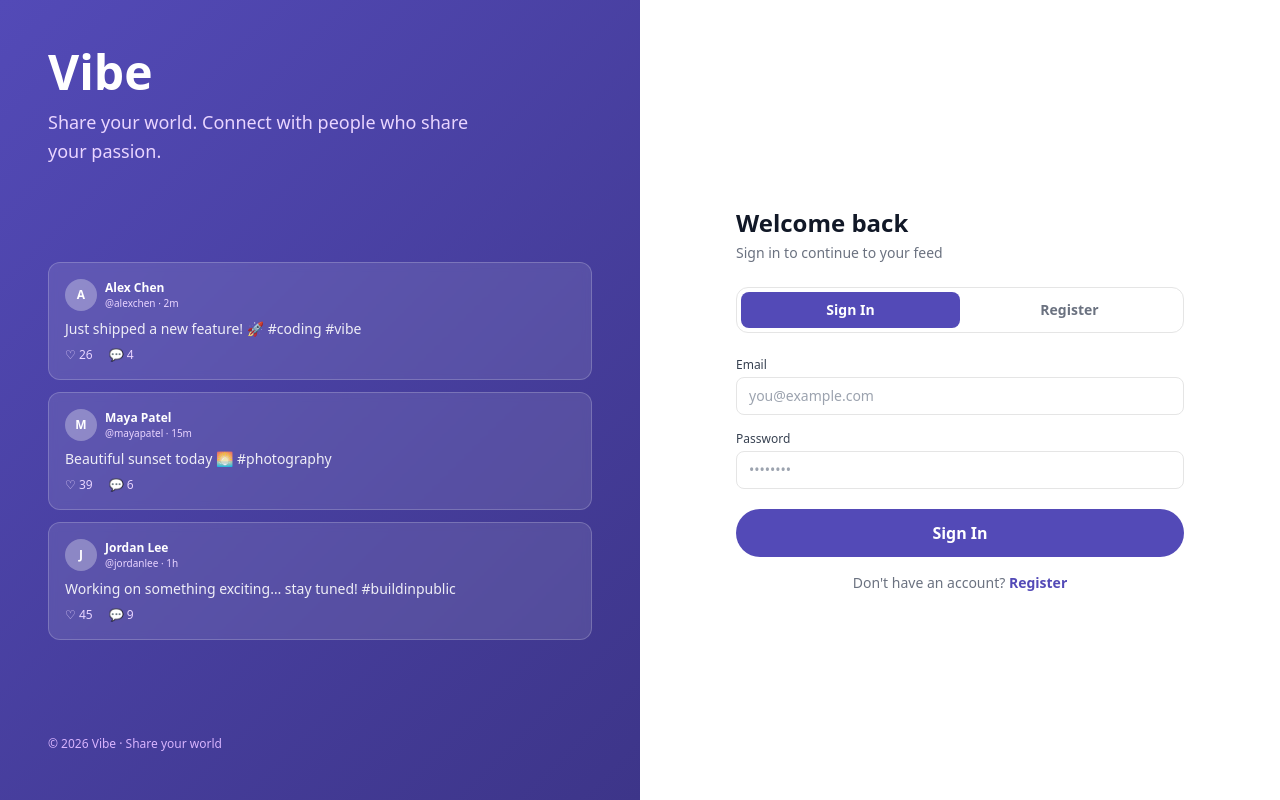
it: LandingPage › hides Name and Username fields after switching back to Sign In tab
// Go to register, then back to login
Click the button with test id "register-tab" at coordinates (1070, 310), box top-left (960, 292), bottom-right (1179, 328)
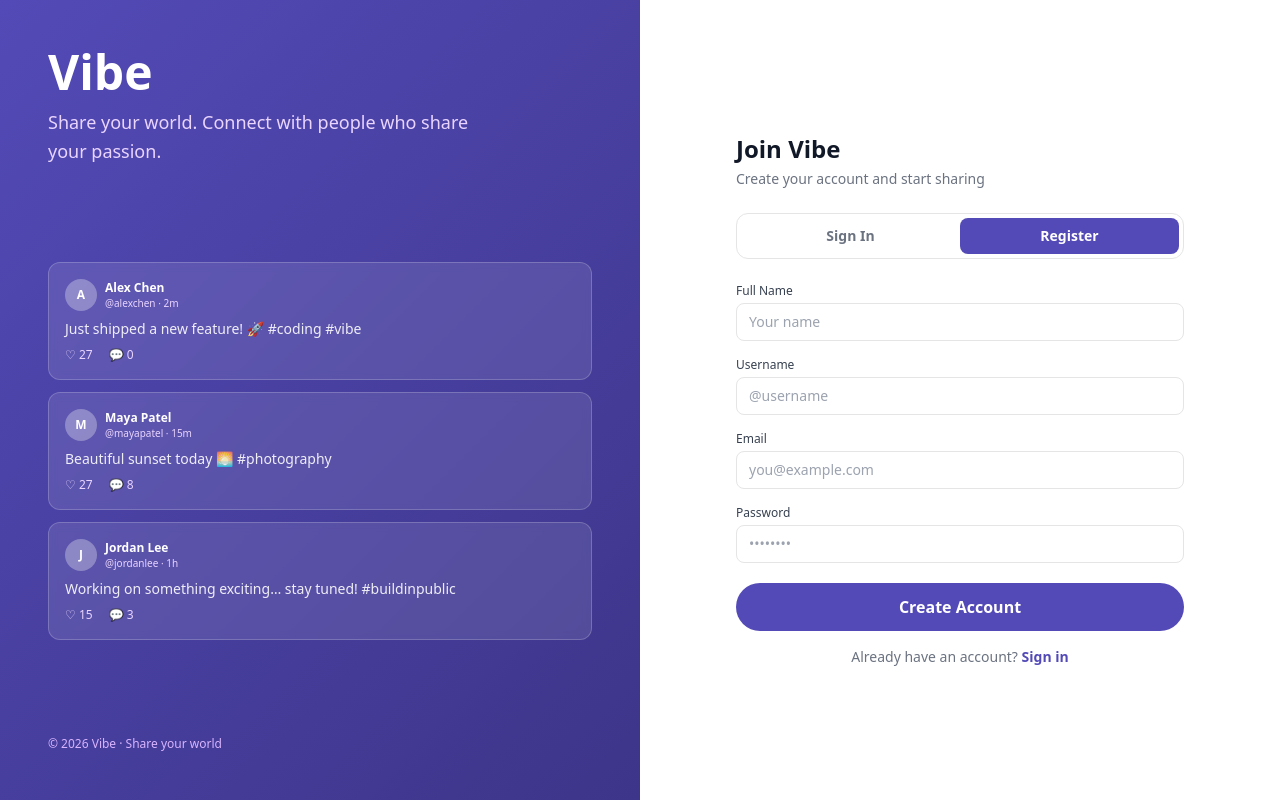
Click the button with test id "login-tab" at coordinates (850, 236), box top-left (741, 218), bottom-right (960, 254)
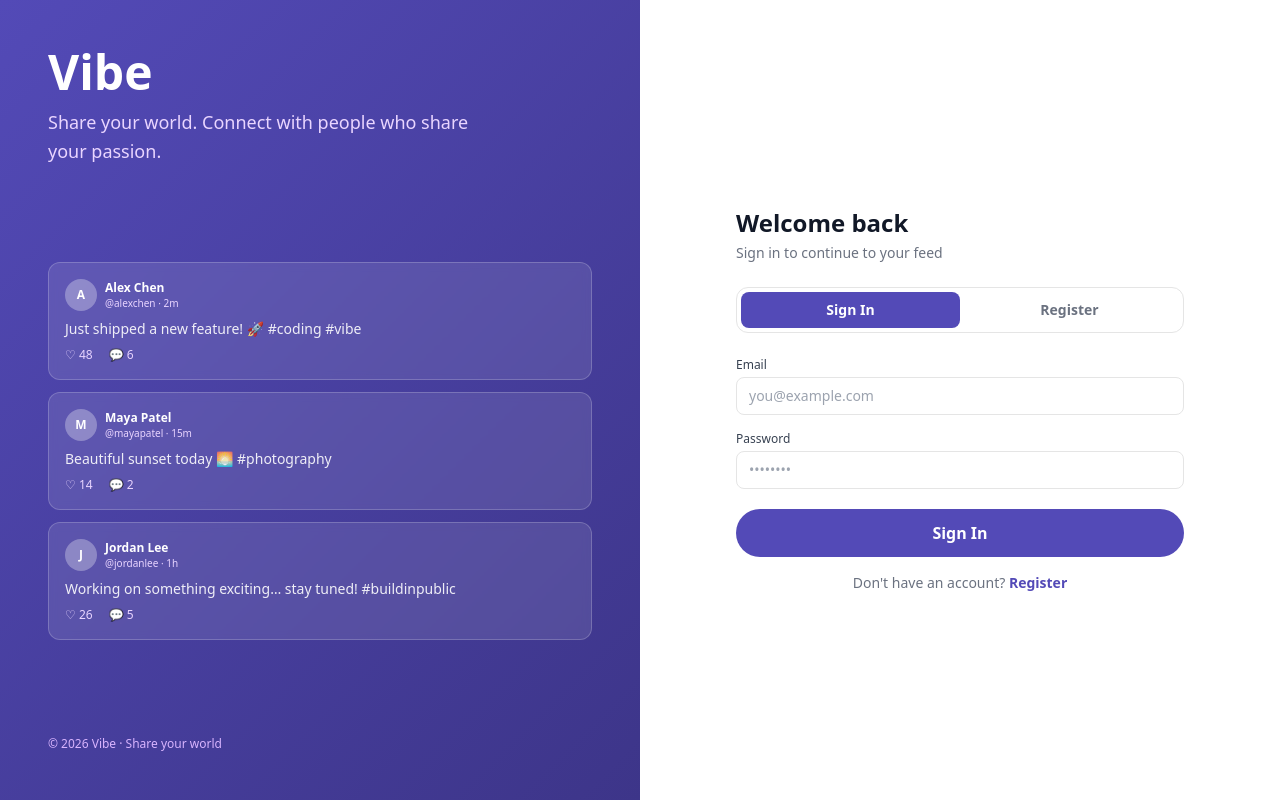
Expected: the field with test id "register-name" is gone
Expected: the field with test id "register-username" is gone
